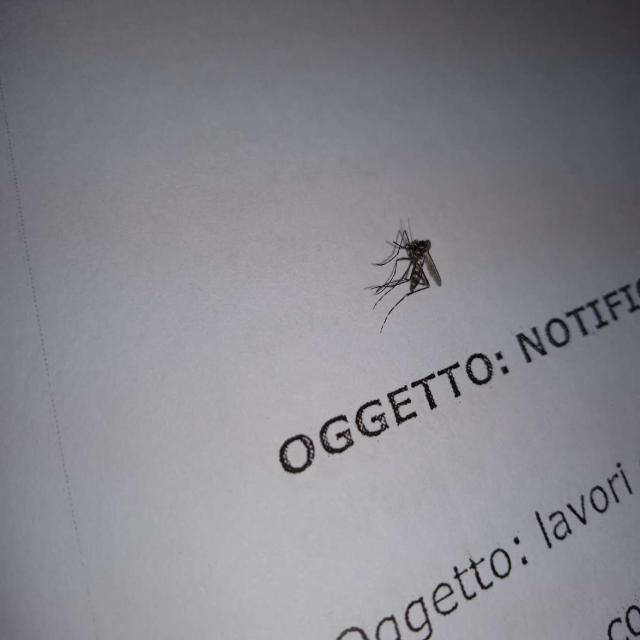albopictus: (366, 206, 446, 332)
